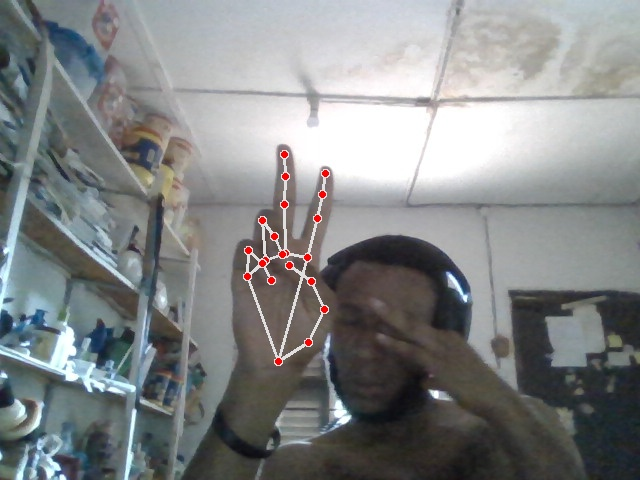peace: (233, 146, 338, 381)
